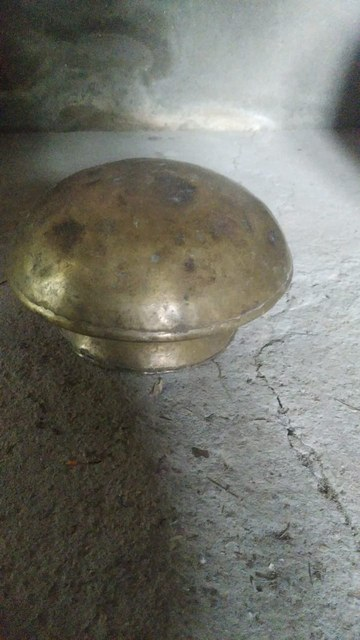Signoraware Spice Jar Set: (18, 32, 342, 608)
